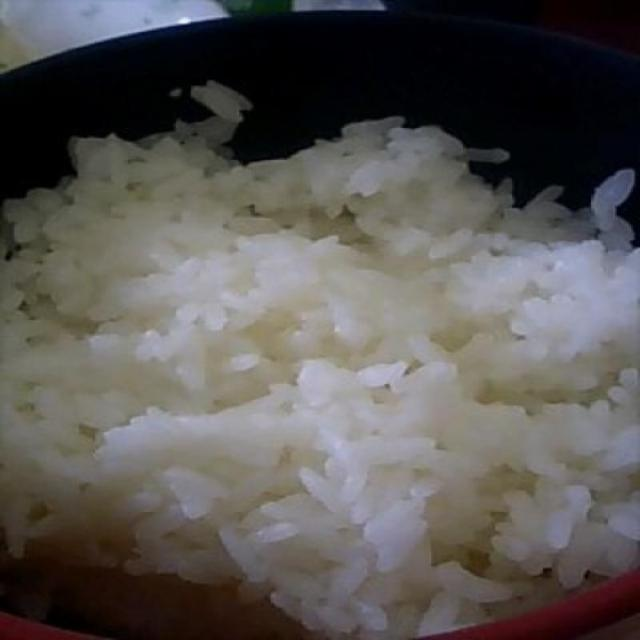nasi_putih: (1, 116, 638, 639)
